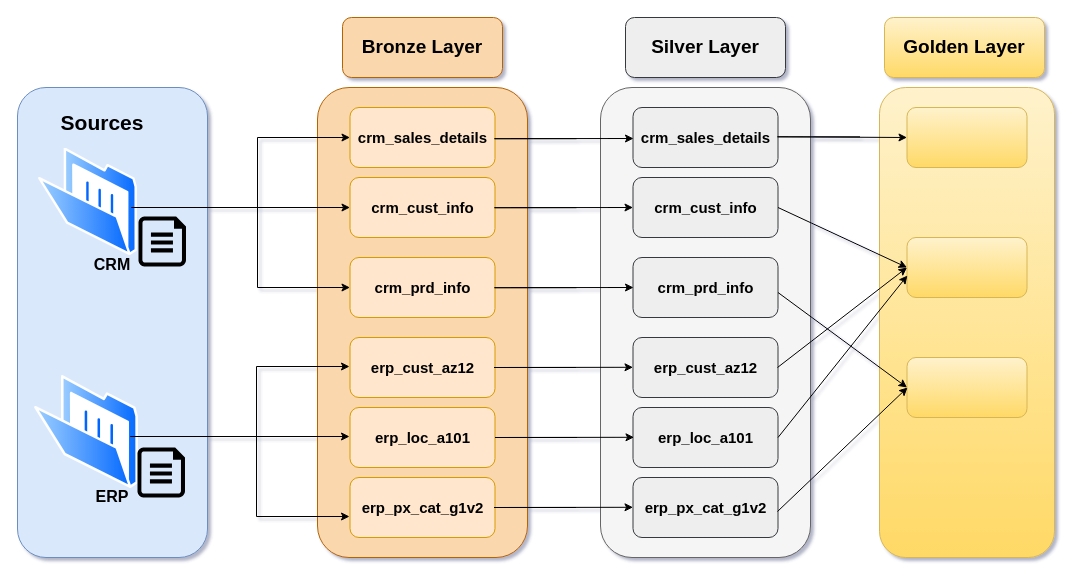
This 1078x581 diagram has some shape labels left out. The shapes that lost their labels are listed below. From the top down, each one's box as (x1, y1, x2, y2) in pixels, then its label:
(906, 106, 1027, 168): fact_sales
(906, 236, 1027, 298): dim_customers
(906, 356, 1027, 418): dim_products
